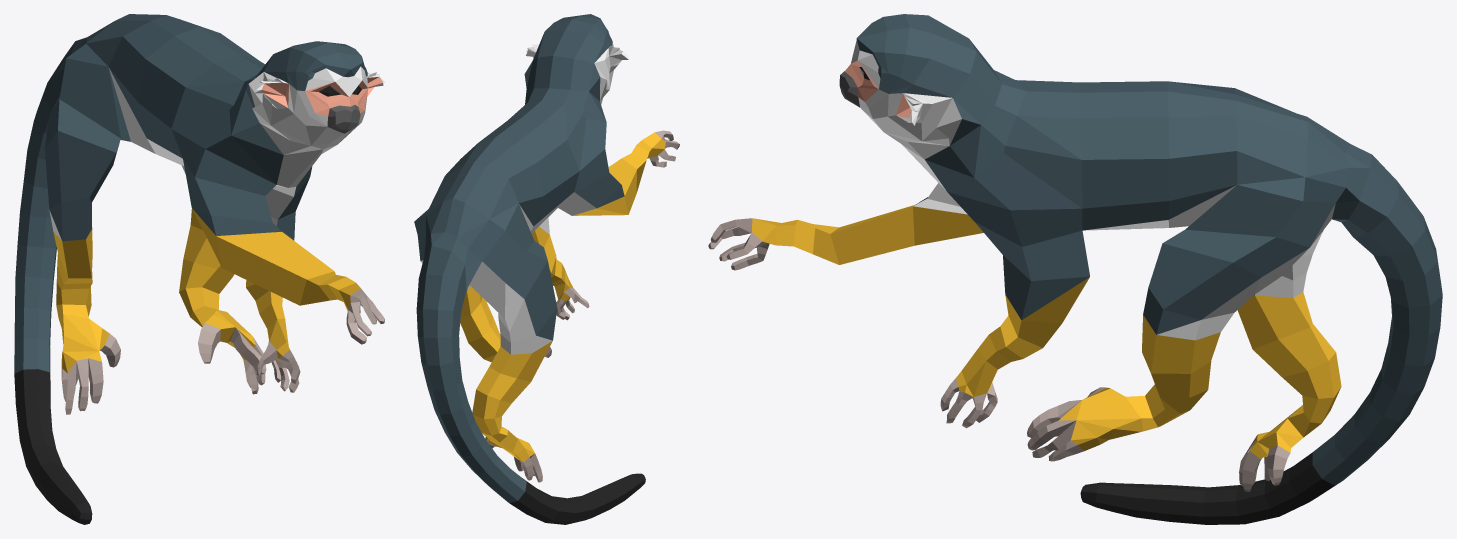
File: animal_012.fbx
The picture shows the model from 3 angles, left to right: view 1: azimuth 30°, elevation 25°; view 2: azimuth 150°, elevation 25°; view 3: azimuth 270°, elevation 25°; orthographic projection. The views are drawn at different scales.
Visible parts, largest first — view 1: animal.012; view 2: animal.012; view 3: animal.012.
Part boxes in pixels (box(x1,y1,x2,y2)): animal.012: box(14, 14, 384, 524); animal.012: box(414, 14, 679, 524); animal.012: box(708, 14, 1442, 524).
Bounding box in the file's own units: 97.81 × 206 × 238.
1 material, 1 textured.
